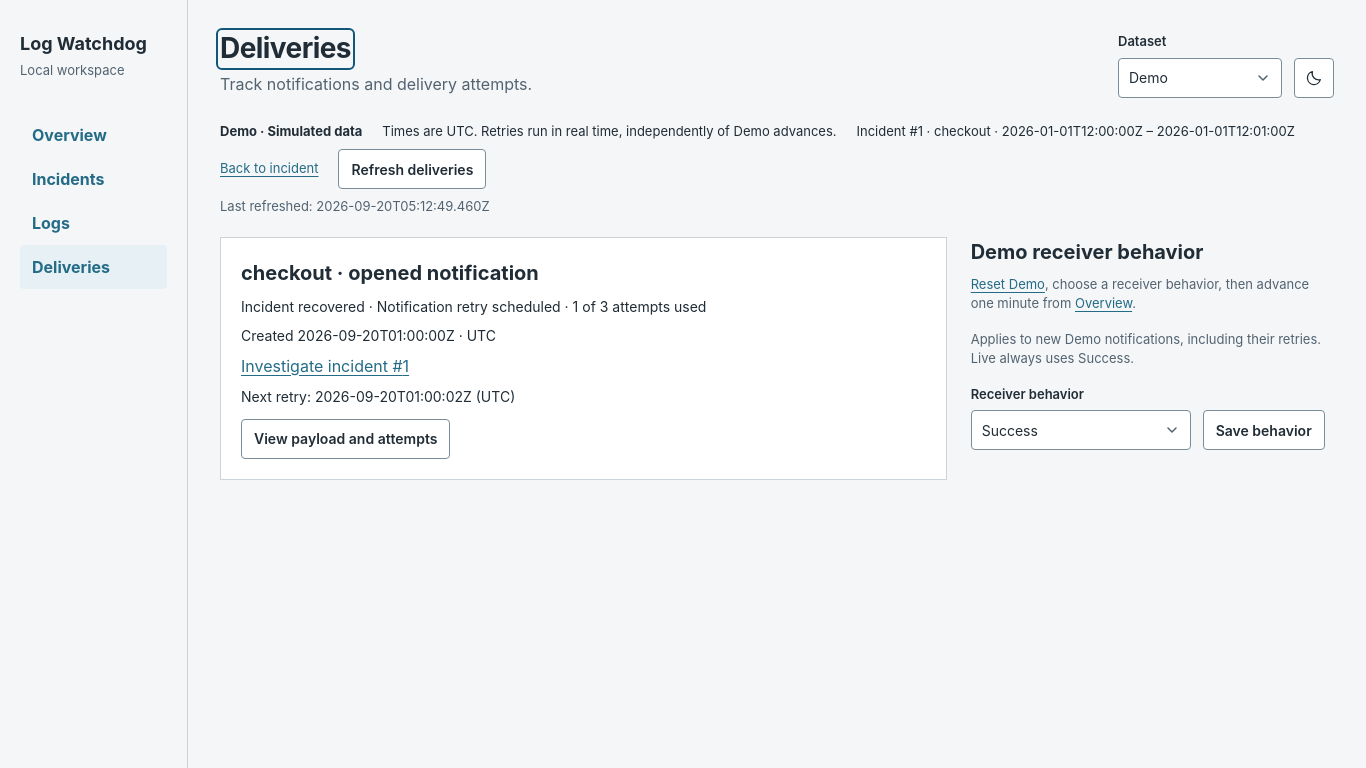
saves explicitly selected receiver behavior for future notifications
Select "Always fail" in the dropdown labelled "Receiver behavior": coordinates (1081, 430) [971,410,1191,450]
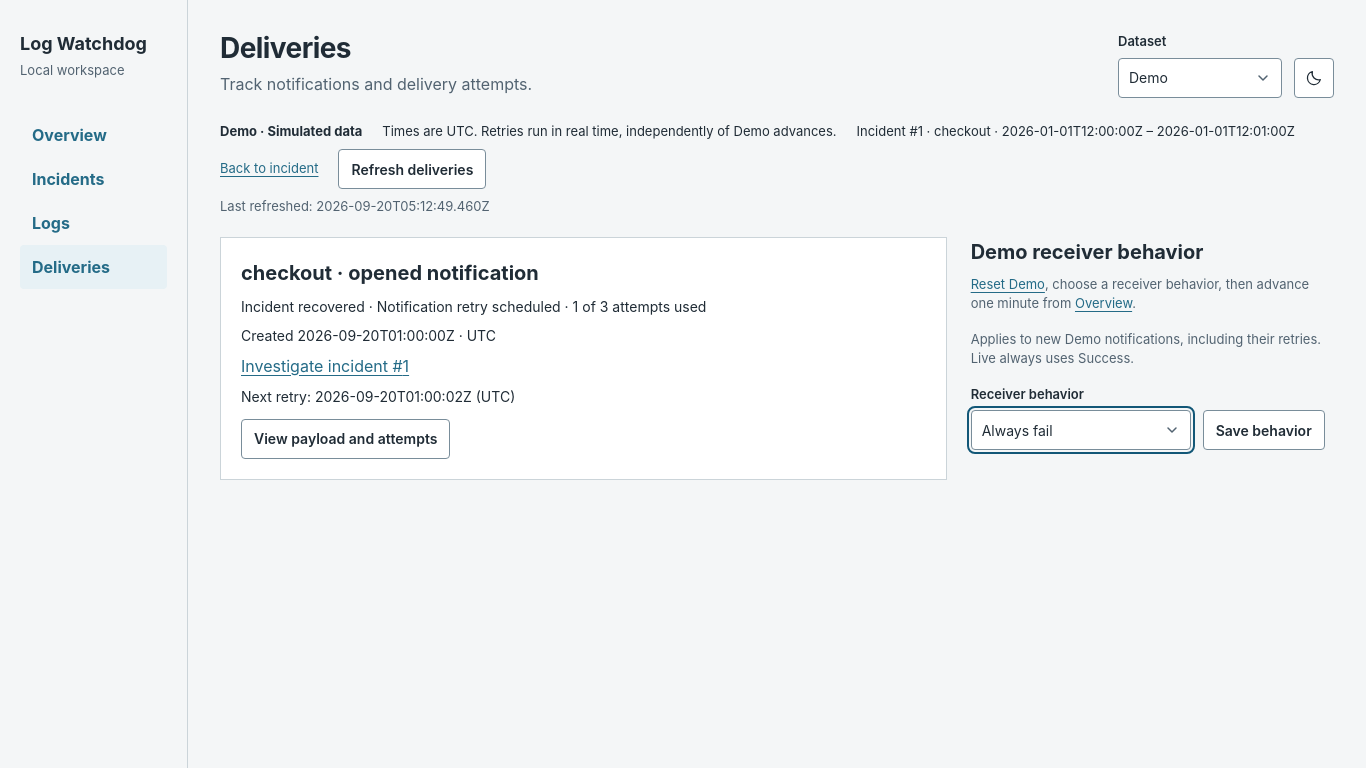
Click the button "Save behavior": coordinates (1264, 430) [1203,410,1325,450]
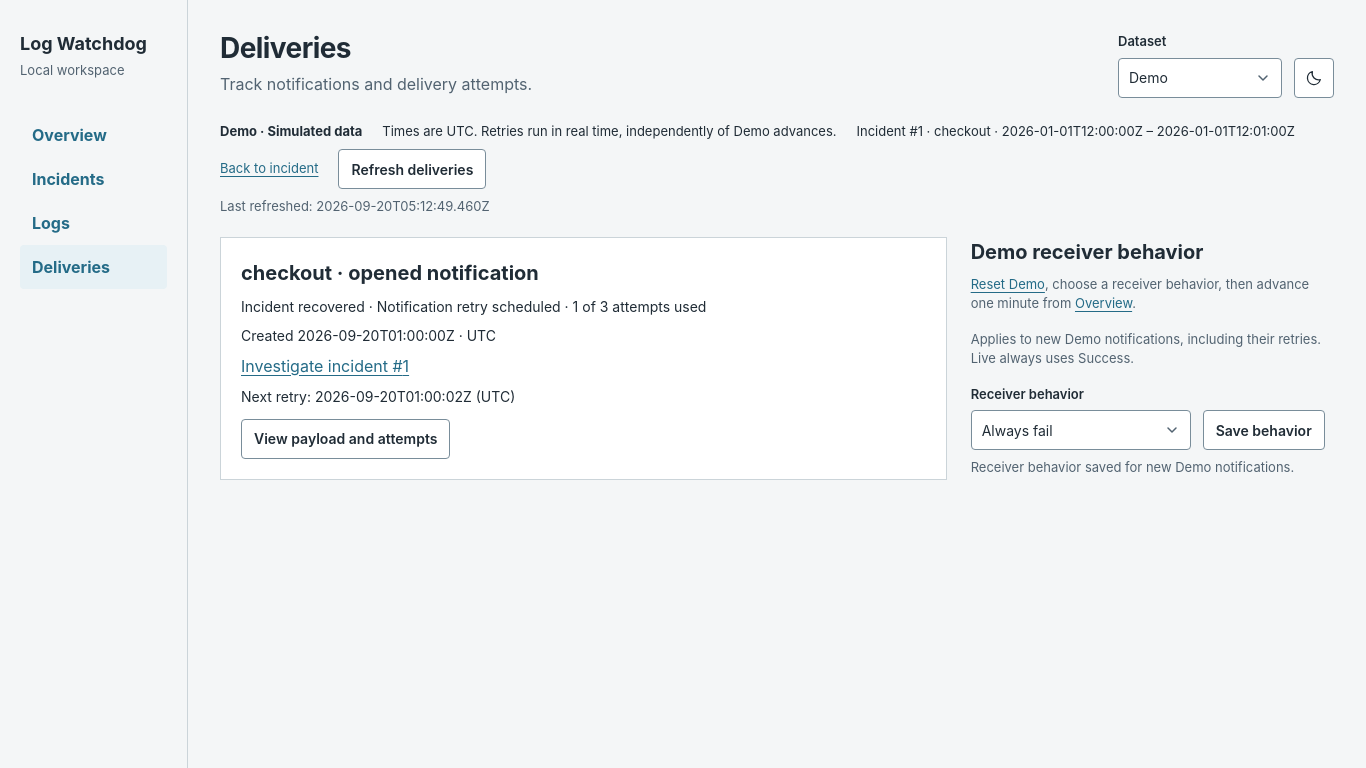
Check: the text "Receiver behavior saved for new Demo notifications." is shown, box [971,458,1334,478]
